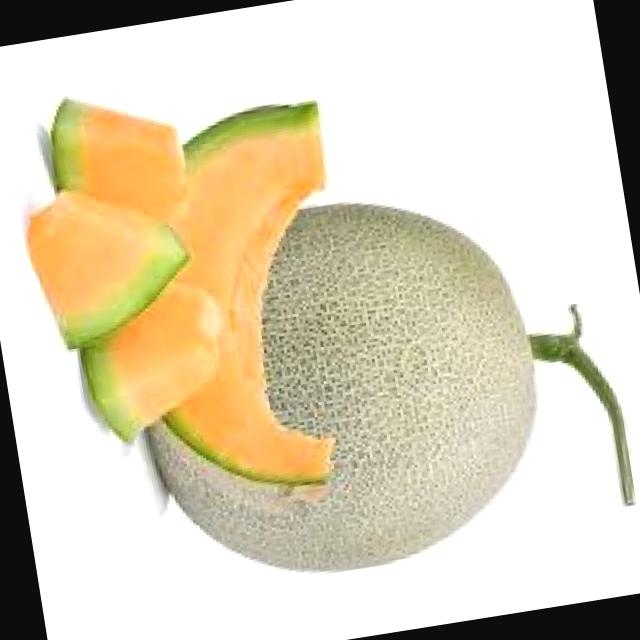cantaloupe: (240, 162, 640, 580), (175, 96, 382, 504)
